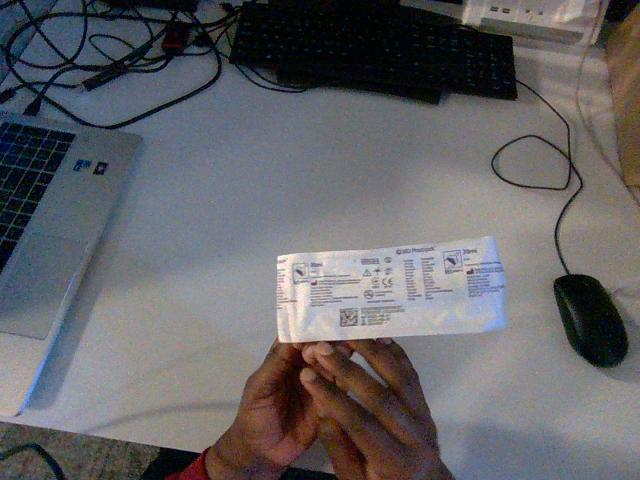syringe: (277, 237, 505, 342)
